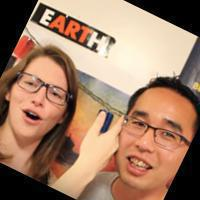Drunk: (125, 93, 186, 179), (14, 62, 65, 134)
